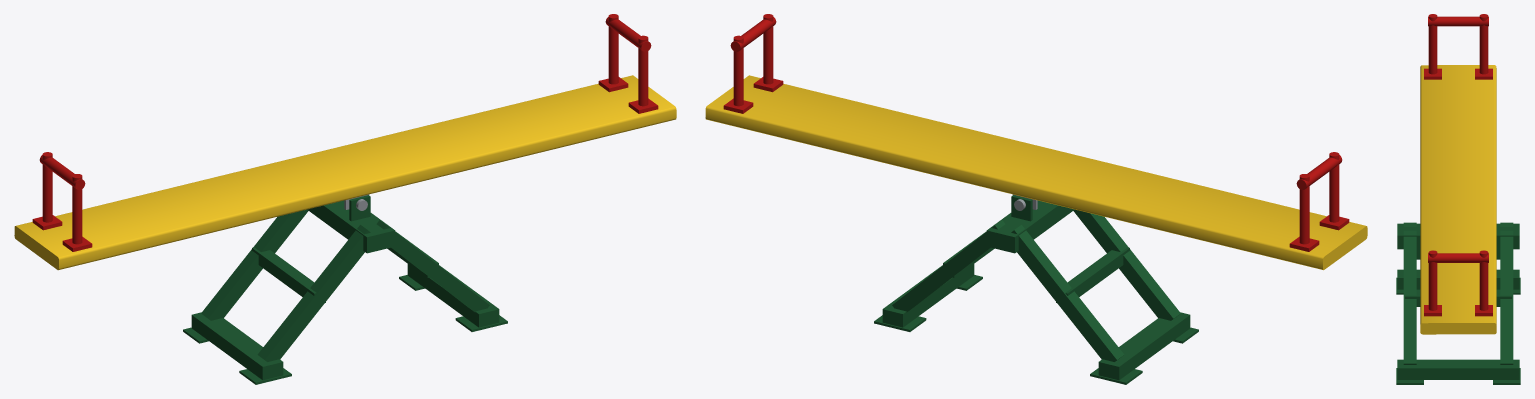
File: seesaw.glb
3 renders of one model, left to right at view 1: azimuth 30°, elevation 25°; view 2: azimuth 150°, elevation 25°; view 3: azimuth 270°, elevation 25°, orthographic. The views are drawn at different scales.
Parts seen in each view (by area): view 1: plank, frame; view 2: plank, frame; view 3: plank, frame.
Boxes of the visible parts, x1,y1,x2,y2 form: plank: (14,14,676,270); frame: (183,195,507,384); plank: (705,14,1367,270); frame: (874,195,1198,384); plank: (1420,14,1496,334); frame: (1396,222,1520,384).
Size of the model in its own units: 2.4 by 0.86 by 0.49.
